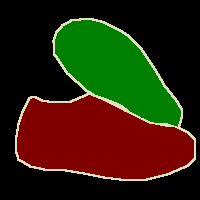shoe: (16, 93, 195, 180), (53, 18, 182, 128)
